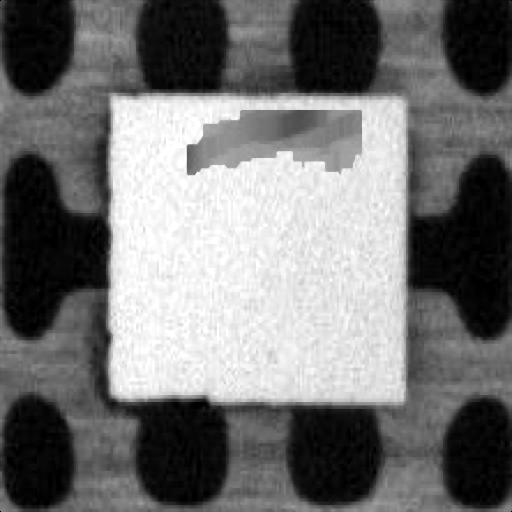DIE_INK: (253, 62, 512, 124)
